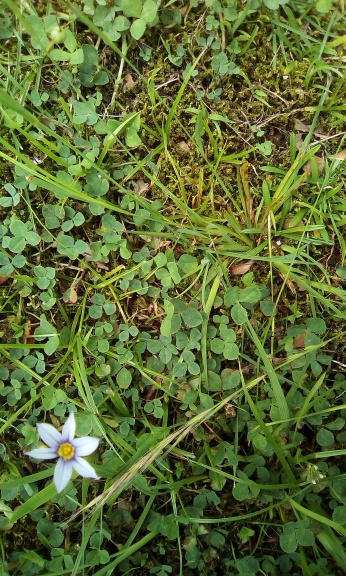4leaf: (147, 331, 180, 364), (56, 235, 89, 262), (155, 262, 182, 288), (72, 100, 99, 126)
